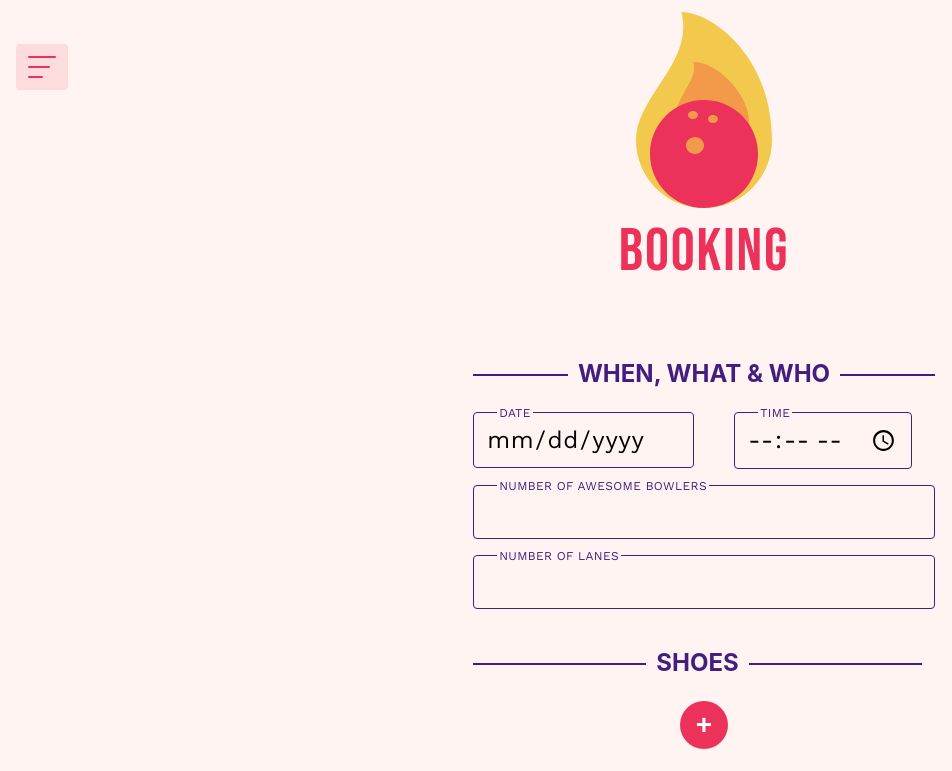
Test: should allow adding and removing shoe sizes
The width and height of the screenshot is (952, 771).
Click the button "+" at (704, 725), box [680, 701, 728, 749]
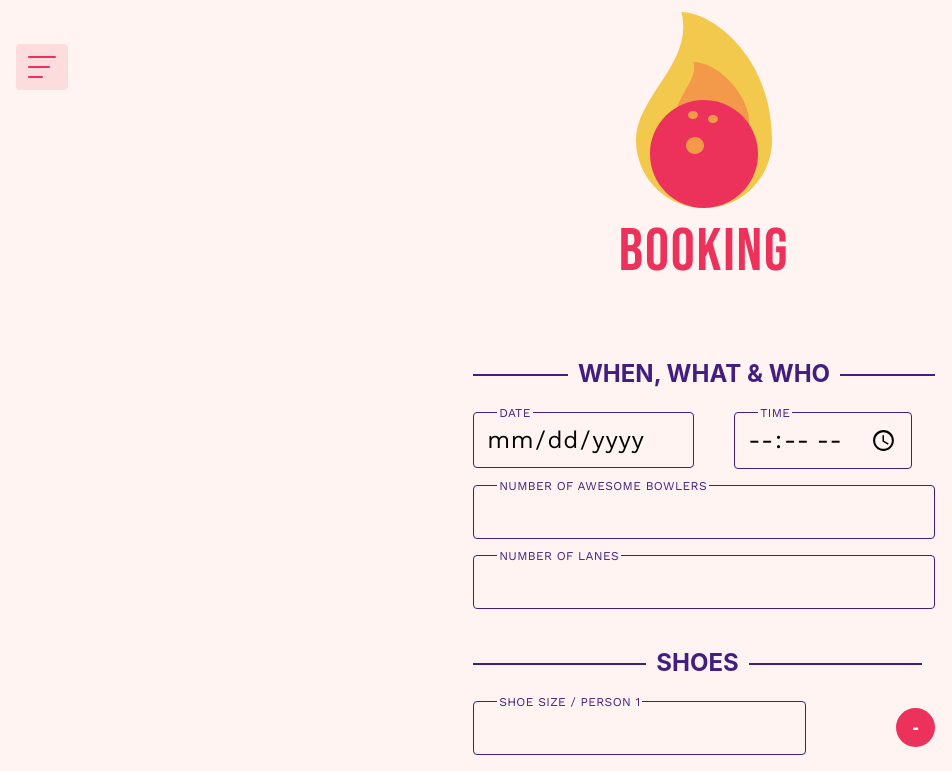
Result: the number of fields with class "shoes__input" is 1 at [473, 701, 806, 755]
Click the button "-" at (916, 728), box [896, 708, 935, 747]
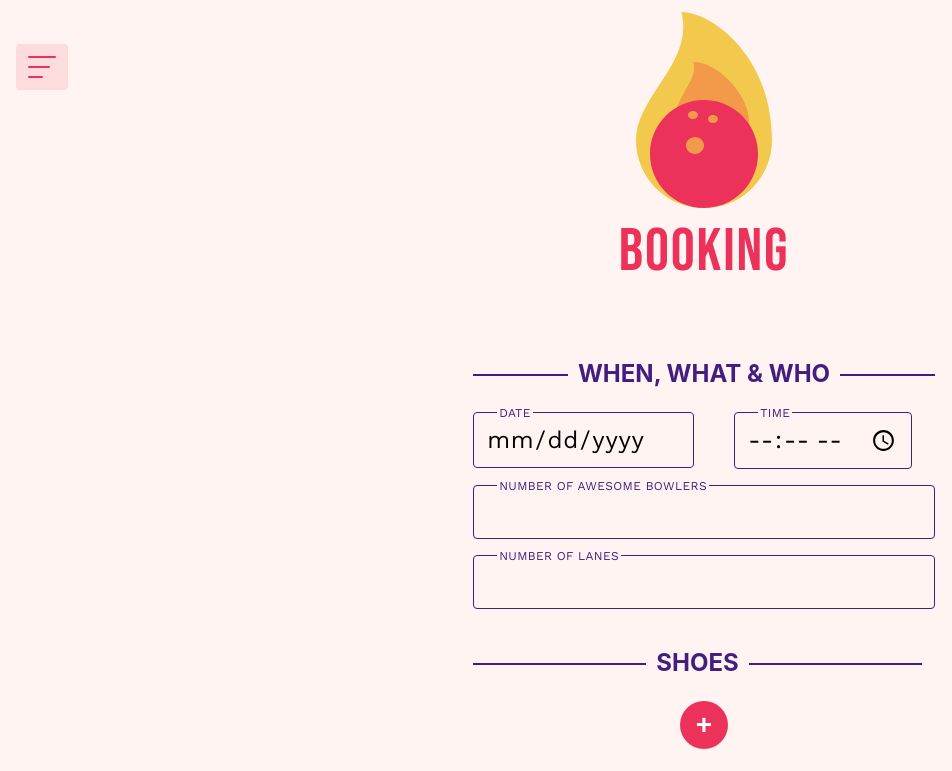
Result: no fields with class "shoes__input" are shown
